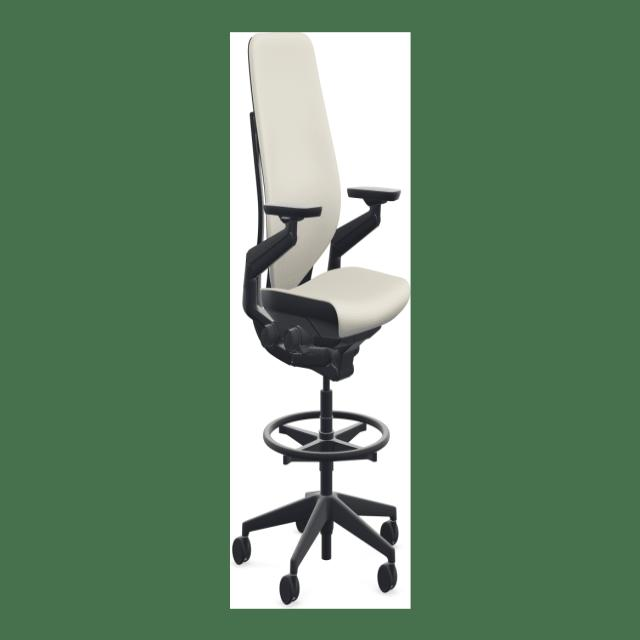chair: (176, 4, 507, 640)
